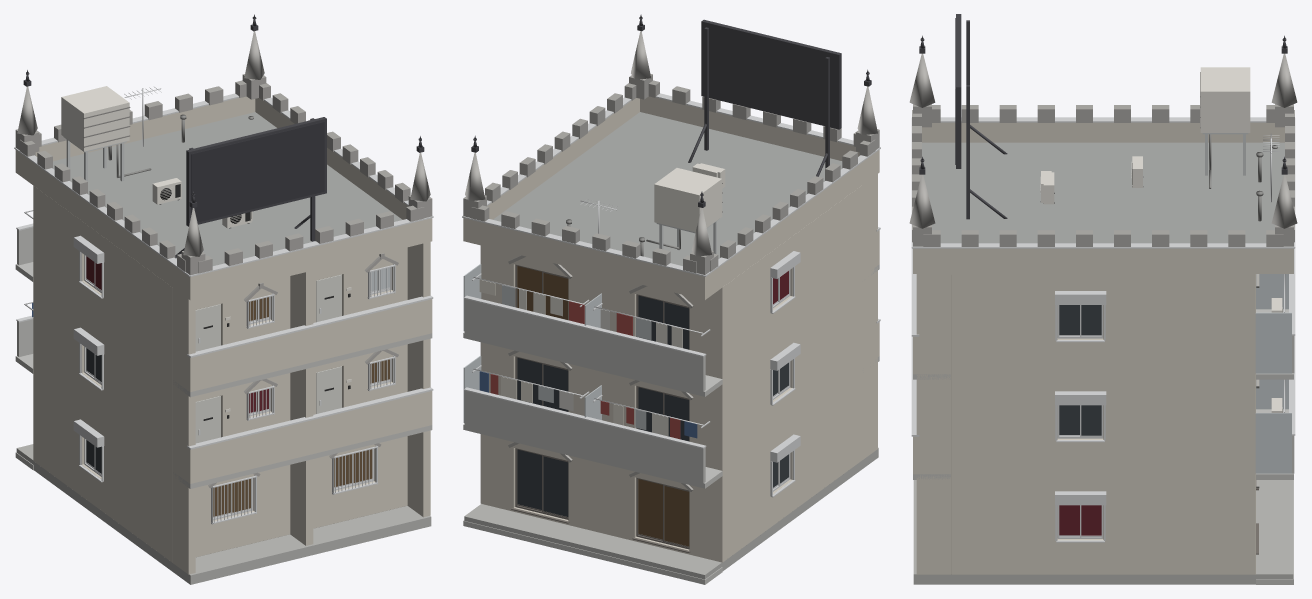
File: blk_skyline0.glb
3 renders of one model, left to right at view 1: azimuth 30°, elevation 25°; view 2: azimuth 150°, elevation 25°; view 3: azimuth 270°, elevation 25°, orthographic. The views are drawn at different scales.
Parts seen in each view (by area): view 1: blk_skyline0; view 2: blk_skyline0; view 3: blk_skyline0.
Boxes of the visible parts, bbox=[...] form: blk_skyline0: bbox=[14, 14, 433, 584]; blk_skyline0: bbox=[462, 14, 880, 584]; blk_skyline0: bbox=[909, 14, 1297, 584].
Size of the model in its own units: 8.46 by 13.08 by 10.18.
